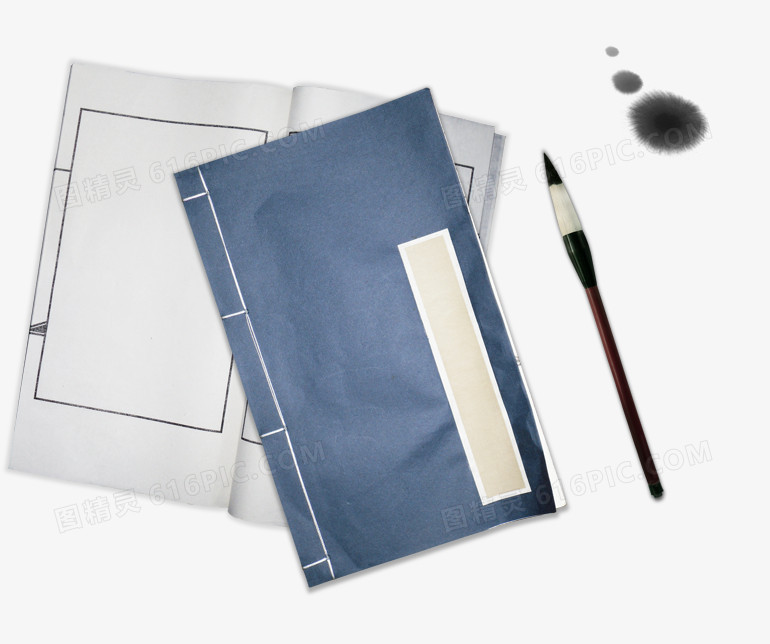book: (8, 48, 516, 546), (186, 71, 577, 602)
